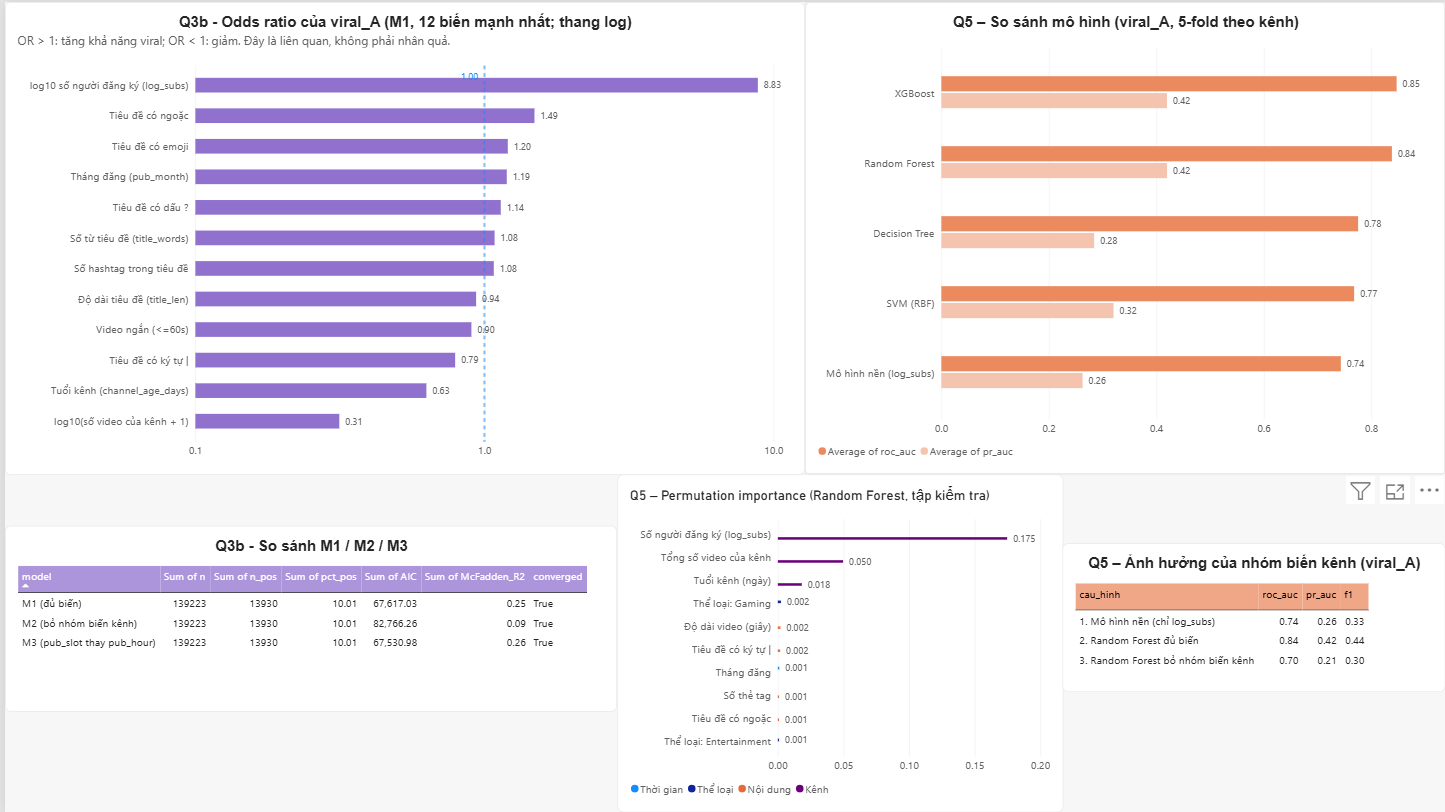

Layout of this report page (visuals, bound fields, positions):
{"tool":"powerbi","page":{"name":"3. Viral","canvas":[1920,1080],"ordinal":2},"visuals":[{"type":"clusteredBarChart","title":"Q3b - Odds ratio của viral_A (M1, 12 biến mạnh nhất; thang log)","fields":{"Category":["q3b_or_table.label"],"Y":["Avg(q3b_or_table.OR_M1)"]},"box":[0,0,1066,630],"z":0},{"type":"tableEx","title":"Q3b - So sánh M1 / M2 / M3","fields":{"Values":["q3b_model_fit.model","Sum(q3b_model_fit.n)","Sum(q3b_model_fit.n_pos)","Sum(q3b_model_fit.pct_pos)","Sum(q3b_model_fit.AIC)","Sum(q3b_model_fit.McFadden_R2)","q3b_model_fit.converged"]},"box":[0,698,816,248],"z":1000},{"type":"clusteredBarChart","title":"Q5 – So sánh mô hình (viral_A, 5-fold theo kênh)","fields":{"Category":["q5_model_comparison.model"],"Y":["Avg(q5_model_comparison.roc_auc)","Avg(q5_model_comparison.pr_auc)"]},"box":[1066,0,854,630],"z":4000},{"type":"clusteredBarChart","title":"Q5 – Permutation importance (Random Forest, tập kiểm tra)","fields":{"Category":["q5_importance.feature_label"],"Series":["q5_importance.nhom_bien"],"Y":["Sum(q5_importance.importance_mean)"]},"box":[816,630,594,450],"z":5000},{"type":"tableEx","title":"Q5 – Ảnh hưởng của nhóm biến kênh (viral_A)","fields":{"Values":["q5_ablation_view.cau_hinh","q5_ablation_view.roc_auc","q5_ablation_view.pr_auc","q5_ablation_view.f1"]},"box":[1410,722,510,198],"z":8000}]}

Visuals, with their boxes in screenshot pixels (x1, y1, x2, y2), scaled from the page's 1920x1080 canvas onto the 1445x812 screenshot:
"Q3b - Odds ratio của viral_A (M1, 12 biến mạnh nhất; thang log)" clusteredBarChart: crop(0, 0, 802, 474)
"Q3b - So sánh M1 / M2 / M3" tableEx: crop(0, 525, 614, 711)
"Q5 – So sánh mô hình (viral_A, 5-fold theo kênh)" clusteredBarChart: crop(802, 0, 1444, 474)
"Q5 – Permutation importance (Random Forest, tập kiểm tra)" clusteredBarChart: crop(614, 474, 1061, 811)
"Q5 – Ảnh hưởng của nhóm biến kênh (viral_A)" tableEx: crop(1061, 543, 1444, 692)
